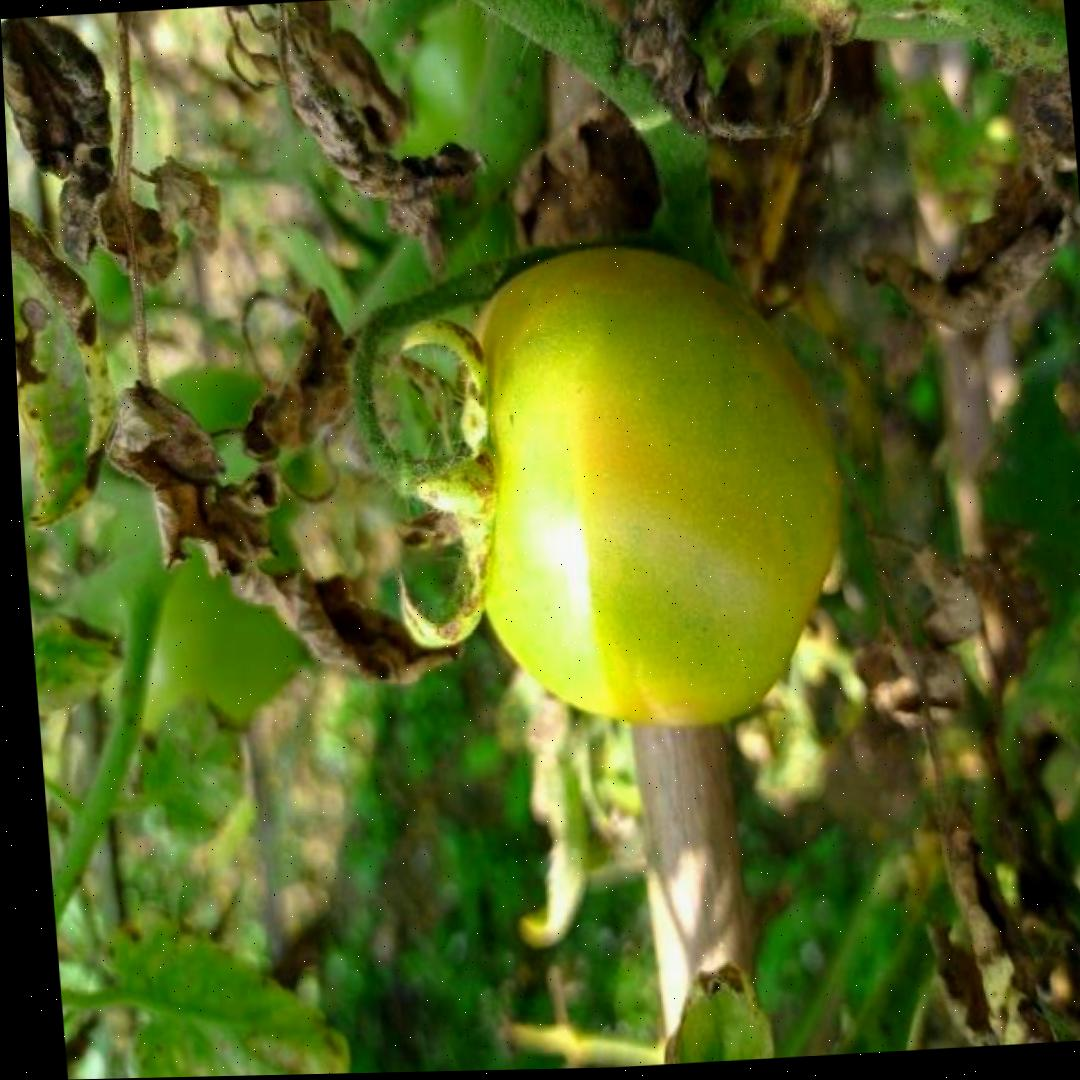setengah_matang: (434, 228, 856, 741)
